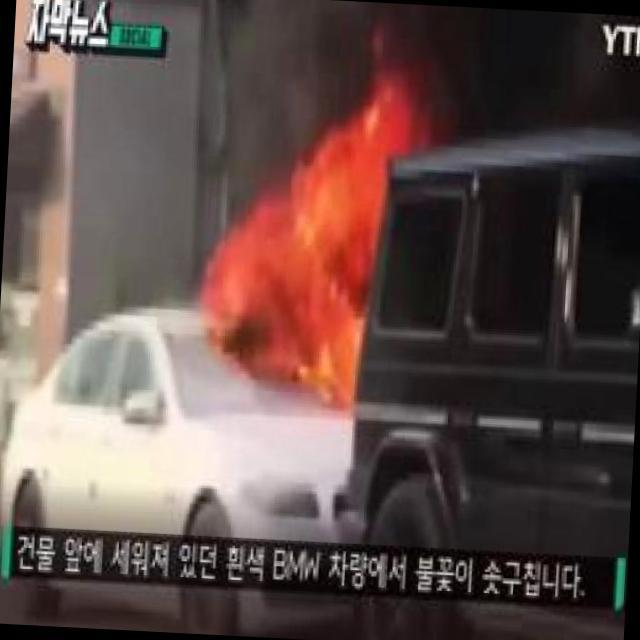Fire: (210, 110, 422, 387)
